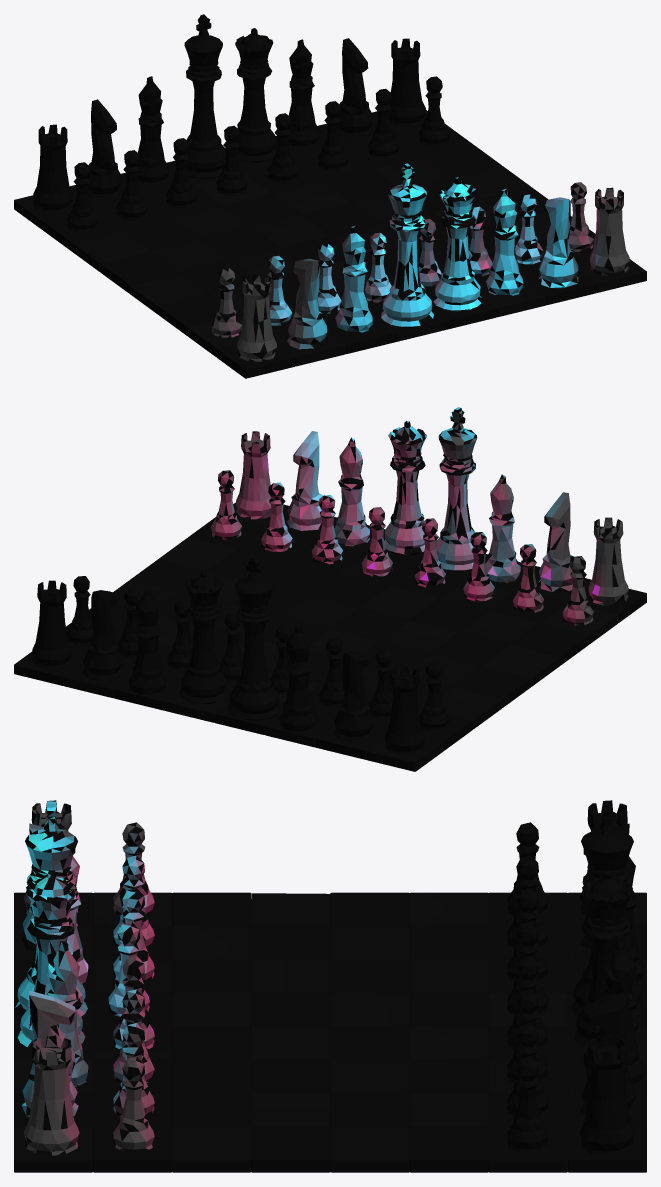
Rendered from chess_board_bake3.glb.
The picture shows the model from 3 angles, top to bottom: view 1: azimuth 30°, elevation 25°; view 2: azimuth 150°, elevation 25°; view 3: azimuth 270°, elevation 25°; orthographic projection. The views are drawn at different scales.
Visible parts, largest first — view 1: weiss.041, Mesh_0.006, weiss.047, Mesh_1.002, weiss.040, Mesh_0.003, weiss.044, weiss.042, weiss.039, Mesh_0.007, weiss.046, weiss.043 (+61 smaller); view 2: Mesh_0.006, weiss.041, Mesh_1.002, weiss.047, Mesh_0.007, weiss.044, Mesh_0.003, Mesh_0.008, Mesh_0.005, weiss.039, Mesh_0.004, Mesh_0.001 (+63 smaller); view 3: weiss.040, Mesh_0.007, Mesh_1.002, weiss.047, weiss.009, Cube.116, weiss.008, Cube.118, Mesh_0.006, weiss.041, weiss.010, Cube.114 (+80 smaller).
Part boxes in pixels (left/top/right/bottom): weiss.041: left=381, top=163, right=433, bottom=327; Mesh_0.006: left=184, top=14, right=226, bottom=178; weiss.047: left=433, top=177, right=482, bottom=311; Mesh_1.002: left=235, top=28, right=276, bottom=162; weiss.040: left=589, top=187, right=629, bottom=275; Mesh_0.003: left=33, top=124, right=73, bottom=212; weiss.044: left=237, top=274, right=276, bottom=361; weiss.042: left=335, top=225, right=372, bottom=333; weiss.039: left=486, top=188, right=523, bottom=296; Mesh_0.007: left=389, top=38, right=425, bottom=126; weiss.046: left=538, top=197, right=578, bottom=288; weiss.043: left=287, top=258, right=327, bottom=349; Mesh_0.006: left=227, top=556, right=280, bottom=720; weiss.041: left=436, top=407, right=477, bottom=571; Mesh_1.002: left=179, top=570, right=228, bottom=704; weiss.047: left=384, top=420, right=426, bottom=554; Mesh_0.007: left=32, top=580, right=72, bottom=668; weiss.044: left=588, top=517, right=628, bottom=605; Mesh_0.003: left=385, top=666, right=424, bottom=754; Mesh_0.008: left=128, top=586, right=166, bottom=695; Mesh_0.005: left=279, top=623, right=316, bottom=732; weiss.039: left=334, top=437, right=369, bottom=546; Mesh_0.004: left=333, top=651, right=374, bottom=742; Mesh_0.001: left=82, top=590, right=123, bottom=681; weiss.040: left=23, top=1035, right=79, bottom=1155; Mesh_0.007: left=579, top=1035, right=635, bottom=1155; Mesh_1.002: left=573, top=869, right=641, bottom=1048; weiss.047: left=17, top=869, right=85, bottom=1048; weiss.009: left=251, top=1126, right=330, bottom=1172; Cube.116: left=330, top=1126, right=409, bottom=1172; weiss.008: left=409, top=1126, right=488, bottom=1172; Cube.118: left=172, top=1126, right=251, bottom=1172; Mesh_0.006: left=571, top=801, right=643, bottom=1017; weiss.041: left=15, top=801, right=87, bottom=1017; weiss.010: left=93, top=1126, right=172, bottom=1172; Cube.114: left=488, top=1126, right=567, bottom=1172.
Size of the model in its own units: 16.01 by 6.12 by 16.
4 materials, 4 textured.
